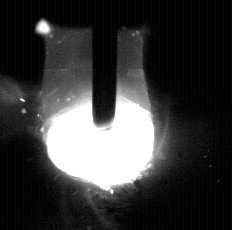arame: (93, 0, 117, 131)
poca: (43, 0, 157, 230)
